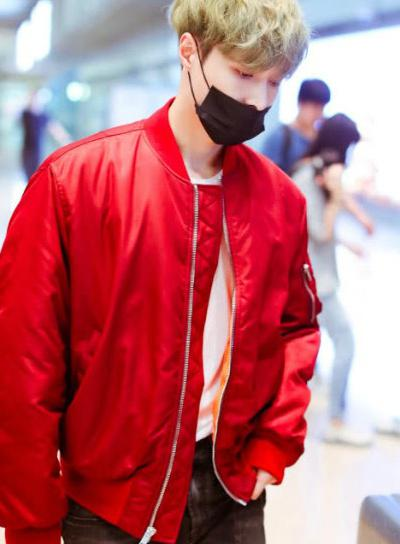WRONG: (197, 47, 283, 147)
